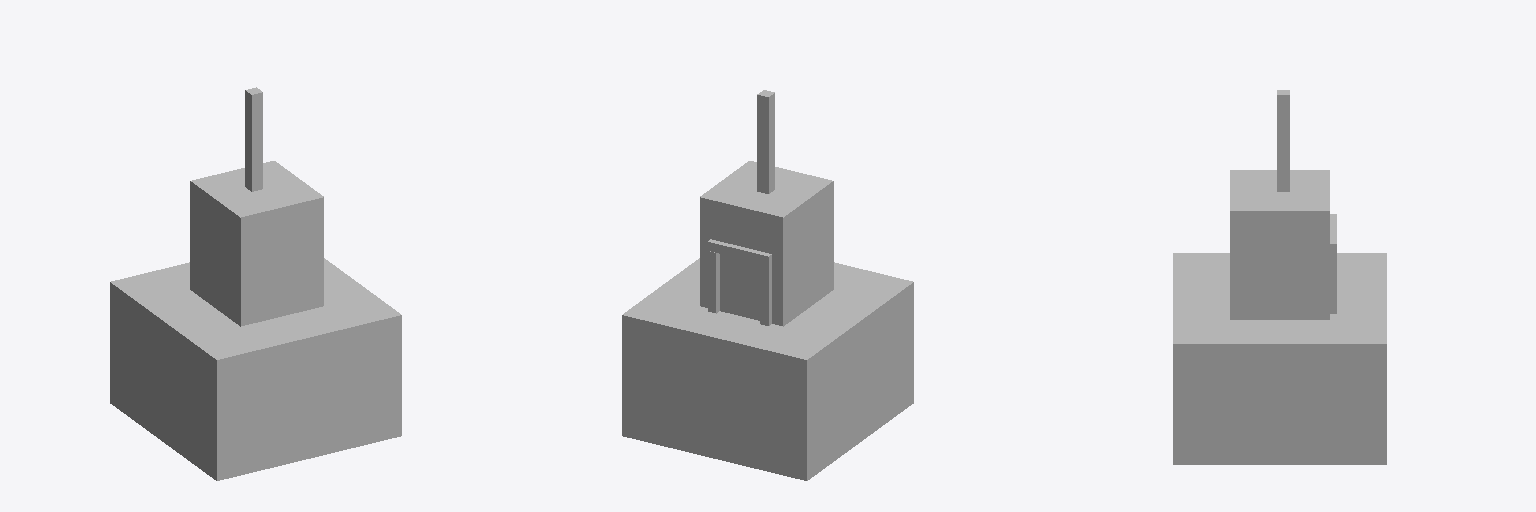
The model's file is Model_Building_End.obj.
3 views of the same model, side by side, from view 1: azimuth 30°, elevation 25°; view 2: azimuth 150°, elevation 25°; view 3: azimuth 270°, elevation 25° (orthographic).
Visible parts, largest first — view 1: cube; view 2: cube; view 3: cube.
Boxes of the visible parts, x1,y1,x2,y2 form: cube: [110, 87, 401, 480]; cube: [622, 90, 913, 480]; cube: [1173, 90, 1386, 464].
Bounding box in the file's own units: 1 × 1.69 × 1.